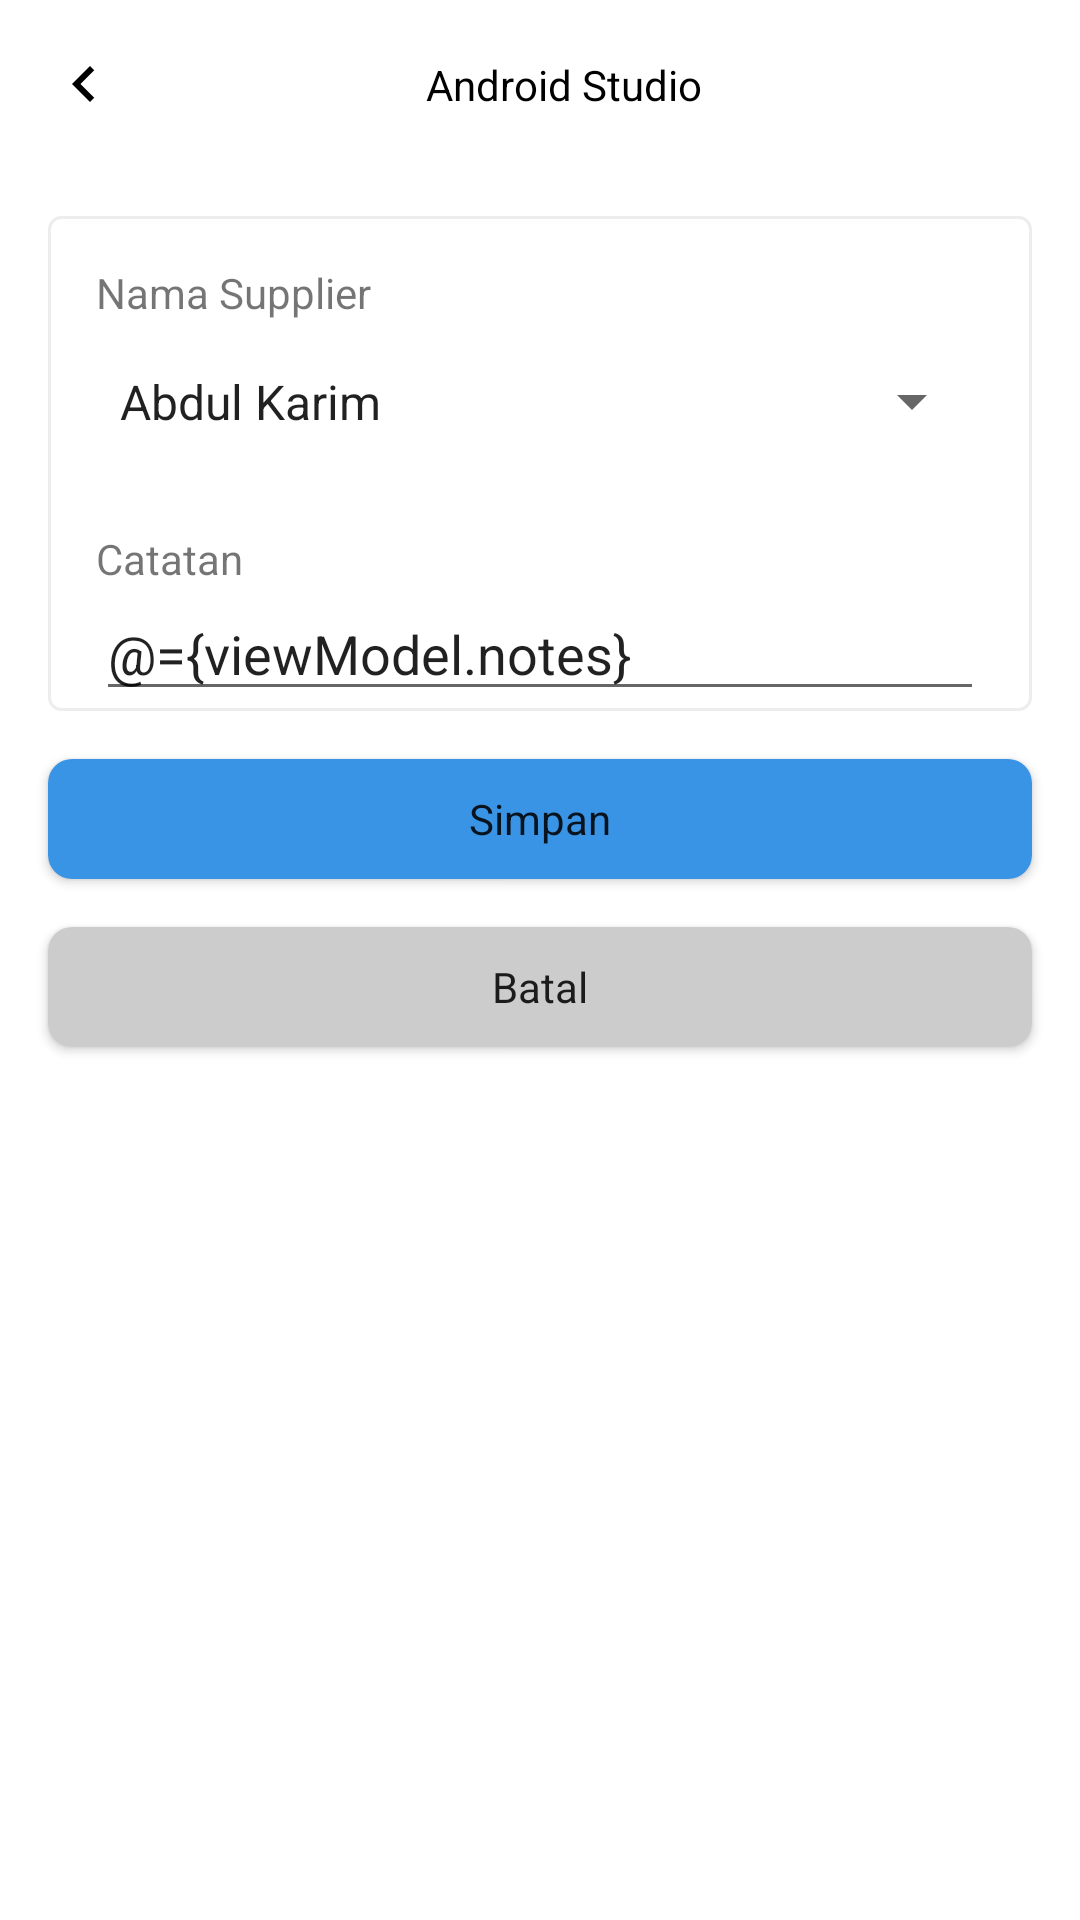

Point at icon controls on the screen. Image size 1080 × 1920, points as point (x, y).
btn for back: point (83, 84)
